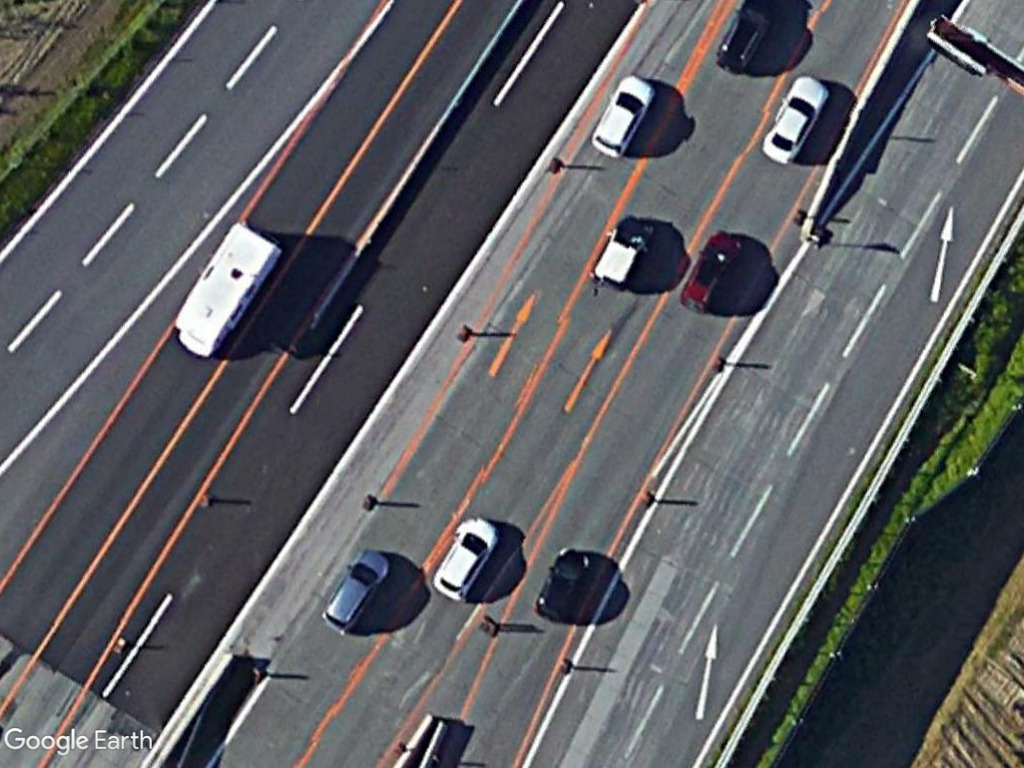car: (319, 535, 395, 639), (756, 67, 834, 167), (587, 64, 660, 163), (430, 506, 499, 605), (676, 224, 744, 315)
